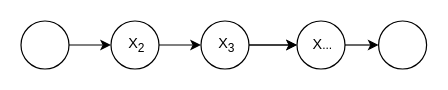
Image size: 448x90. Some labels were removed from this diagram. The shapes that lost their labels are listed below. From the top down, each one's centre as x and y in pixels, then its label:
the point at 44,44: X 1
the point at 402,44: X n
